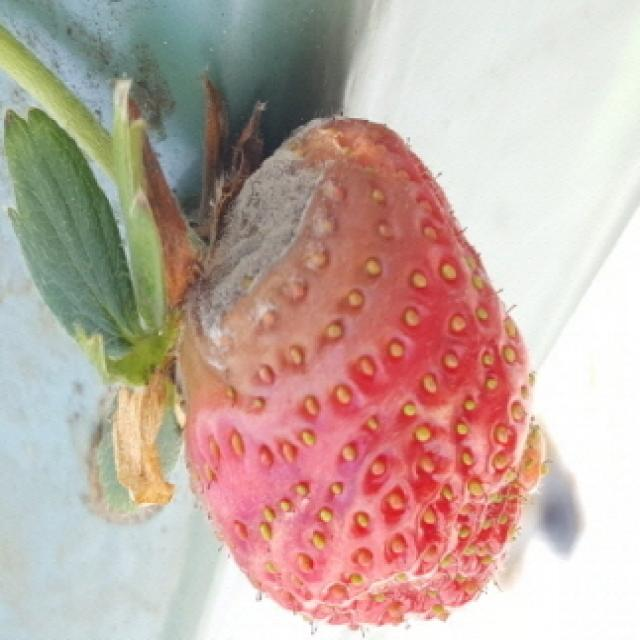Gray Mold: (173, 102, 356, 375)
